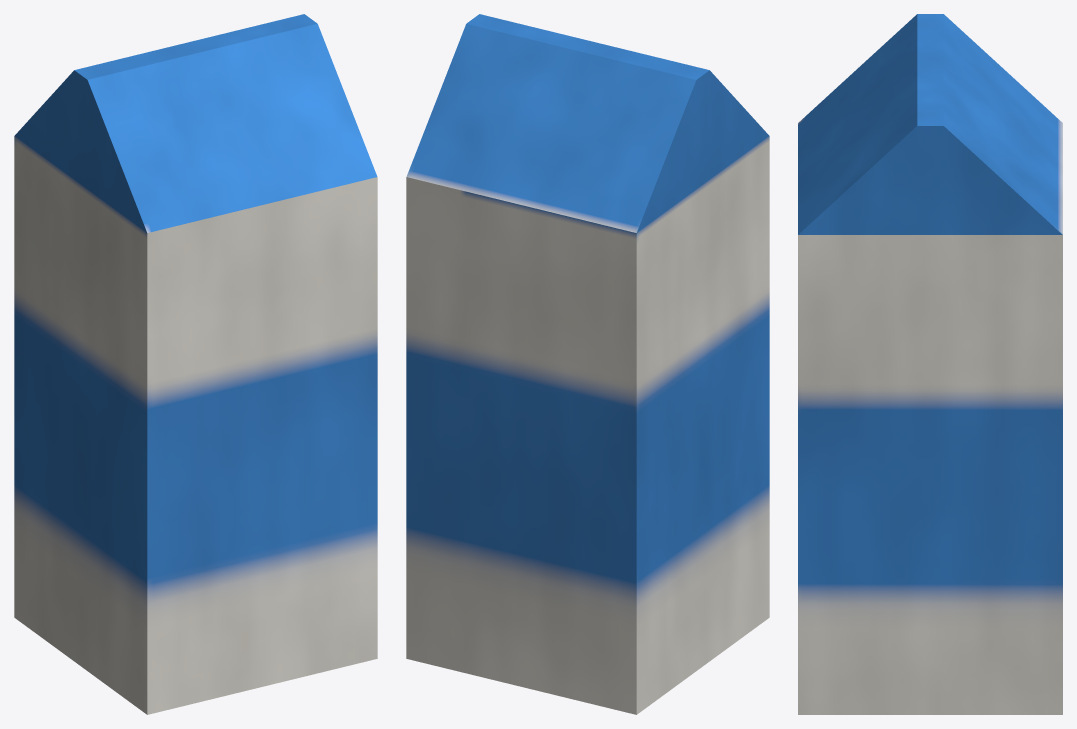
The model's file is Item_Milk.fbx.
3 views of the same model, side by side, from view 1: azimuth 30°, elevation 25°; view 2: azimuth 150°, elevation 25°; view 3: azimuth 270°, elevation 25° (orthographic).
Parts seen in each view (by area): view 1: Item_Milk; view 2: Item_Milk; view 3: Item_Milk.
Boxes of the visible parts, left/top/right/bottom form: Item_Milk: left=14, top=14, right=377, bottom=714; Item_Milk: left=406, top=14, right=769, bottom=714; Item_Milk: left=798, top=14, right=1062, bottom=714.
Bounding box in the file's own units: 0.11 × 0.27 × 0.11.
Materials: 1 (1 with a texture image).
